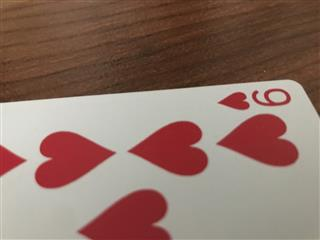NineOfHearts: (1, 78, 320, 240)
